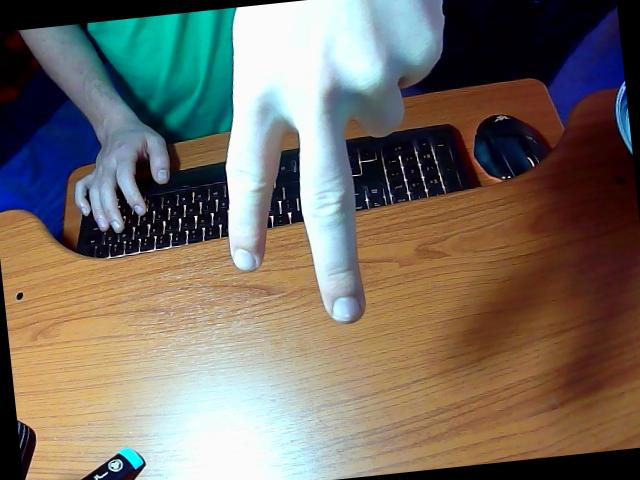scissors: (25, 0, 442, 322)
